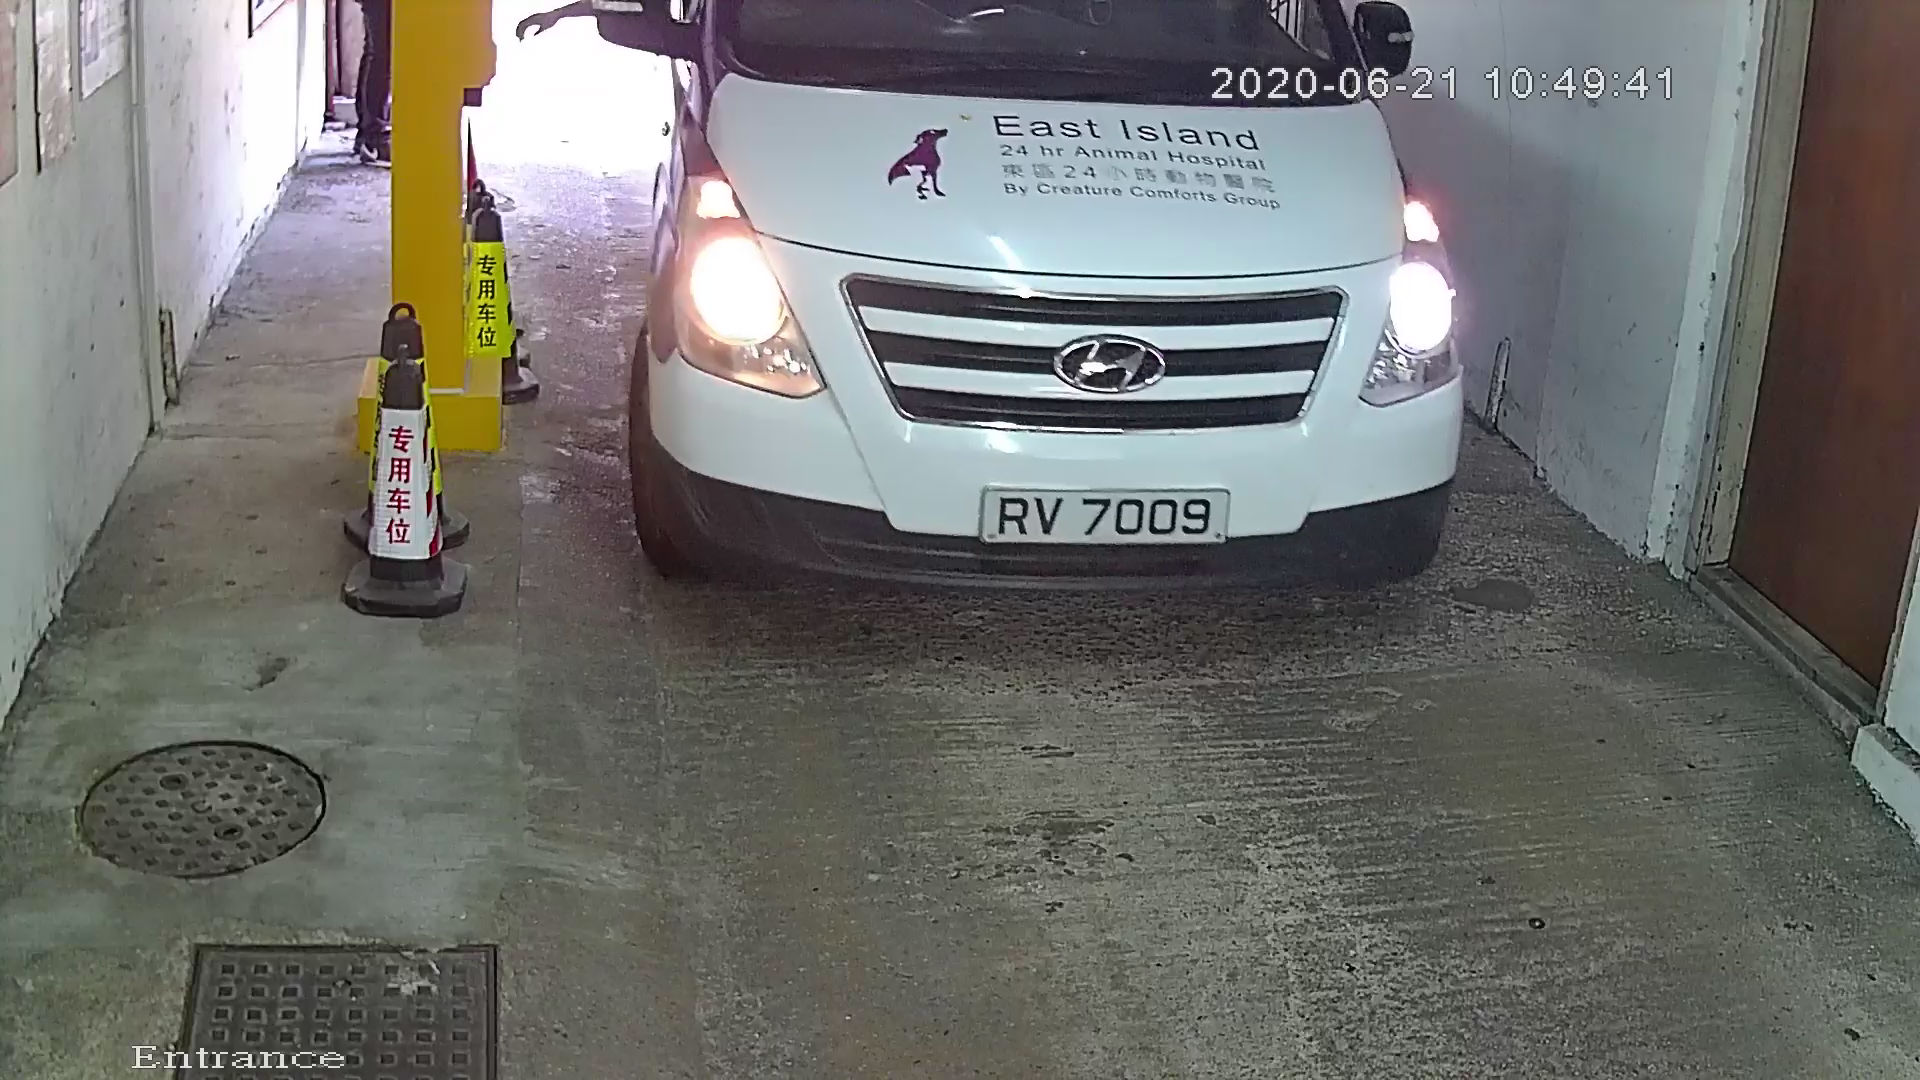privatecar: (567, 1, 1534, 669)
